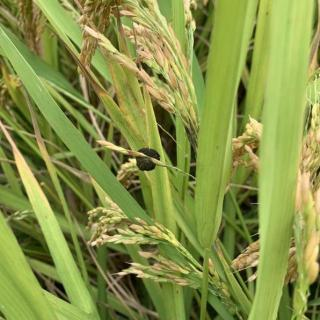Gosong-Palsu: (134, 147, 162, 173)
